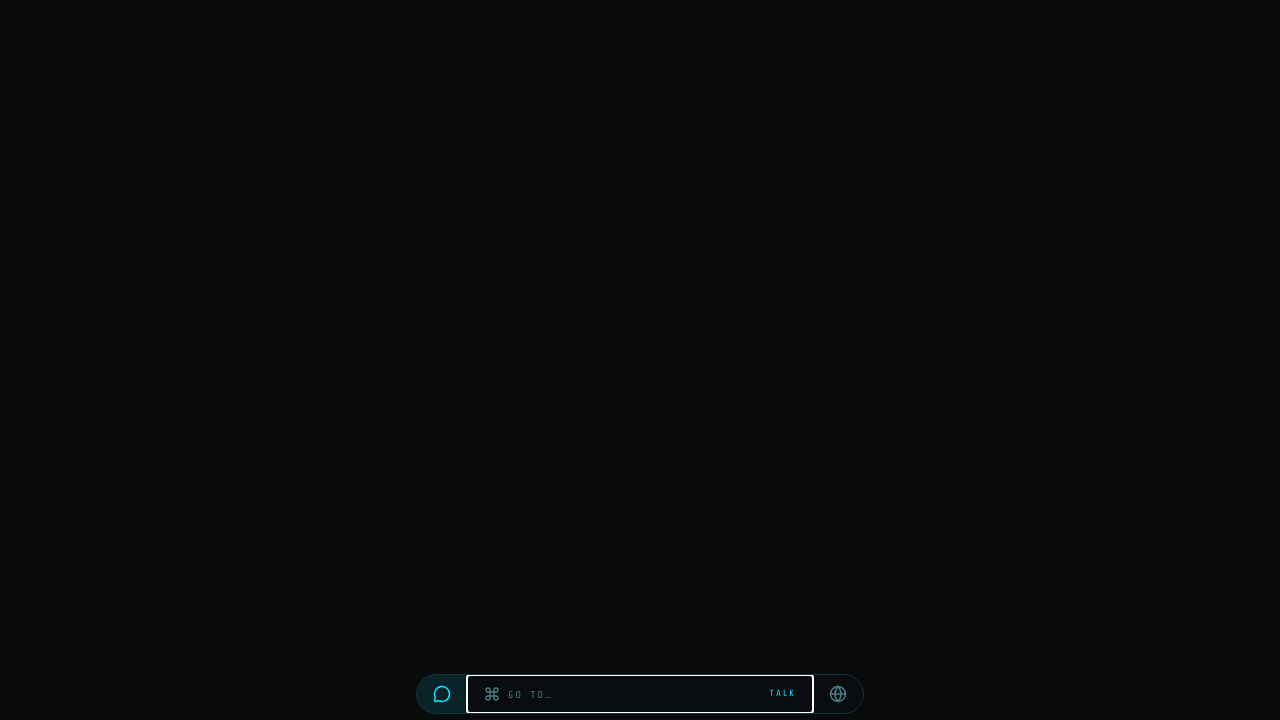
Test case: Command › keeps the selection in view, traps Tab, and returns focus to the trigger
Click the button with test id "command-open" at point(530, 694), box [467,675,813,713]
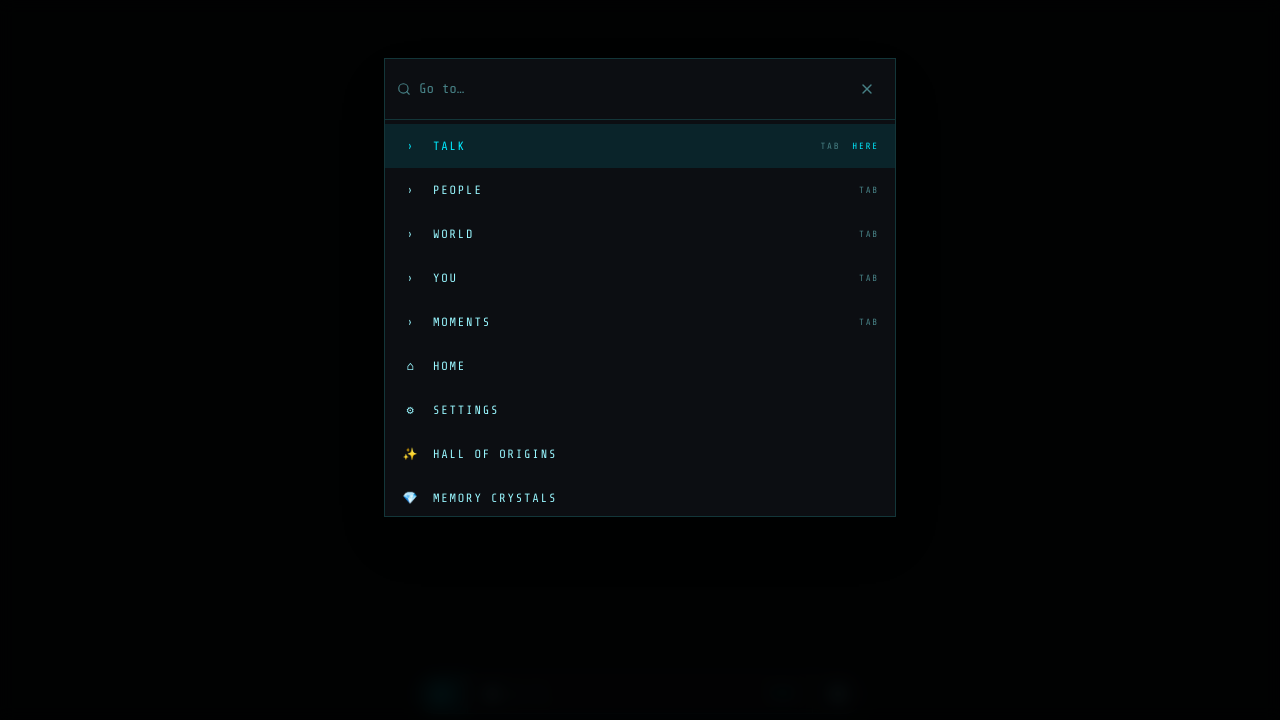
Press ArrowUp in the dropdown with test id "command-input", box [419,67,843,111]
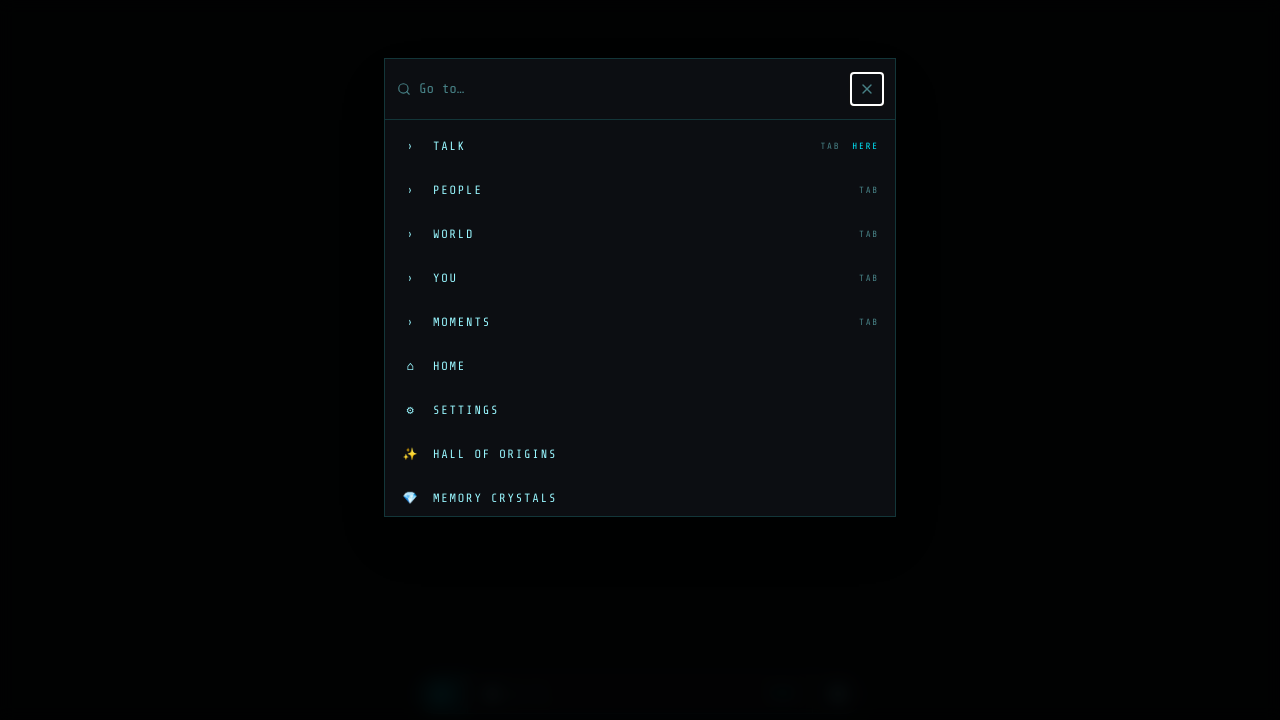
Press Tab in the button named "Close command palette", box [851,73,883,105]
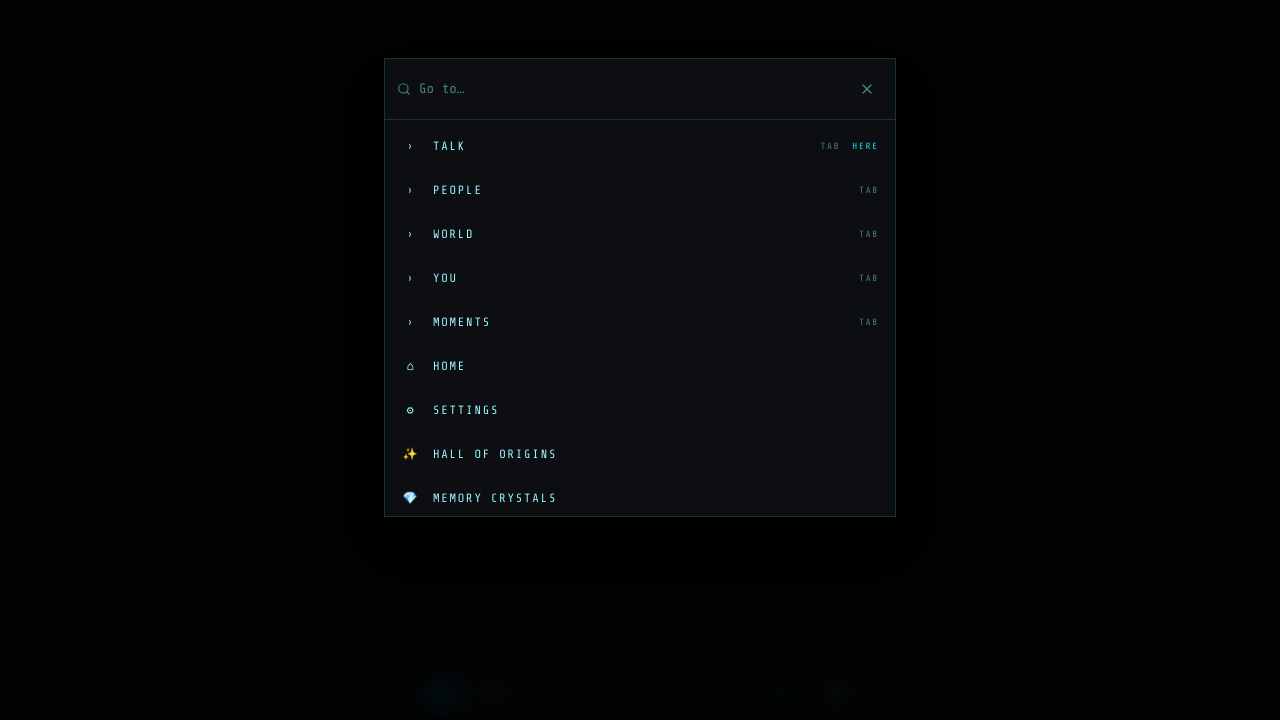
Press Tab in the dropdown with test id "command-input", box [419,67,843,111]
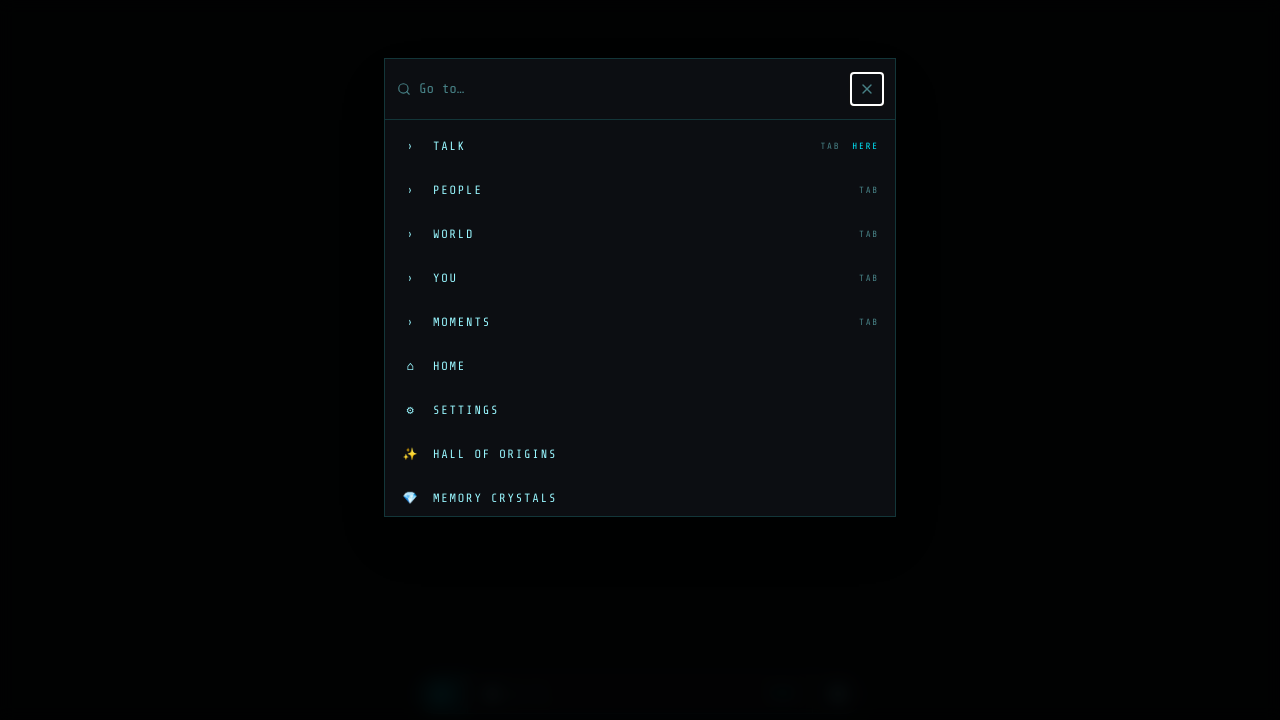
Press Escape in the dropdown with test id "command-input", box [419,67,843,111]
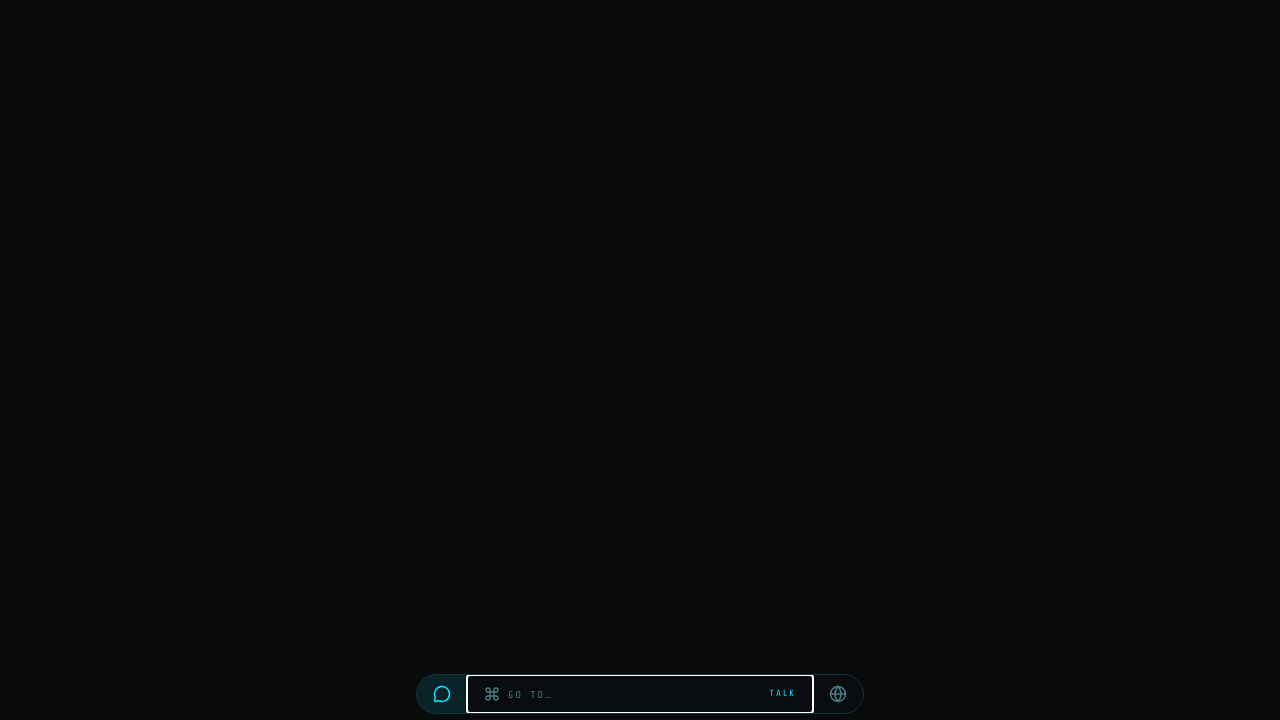
expect the dialog with test id "command-palette" is gone: met
